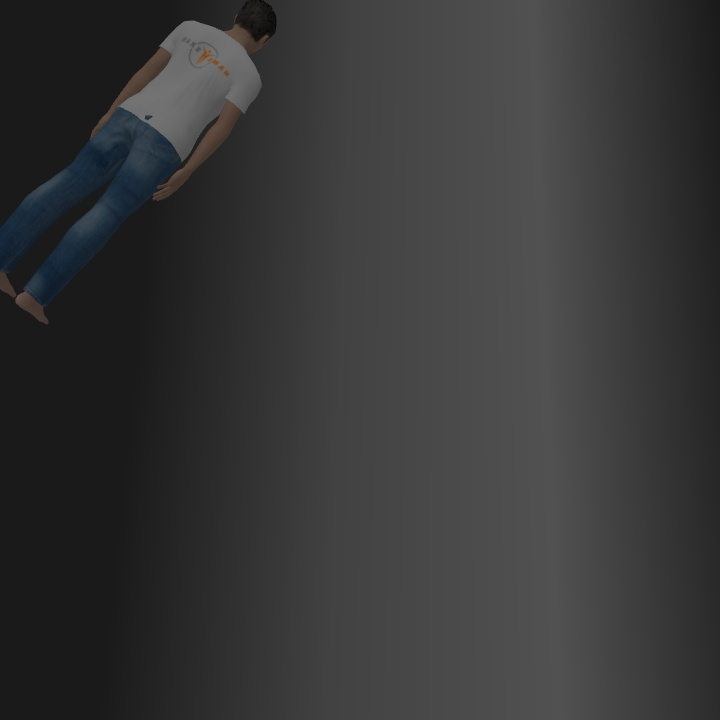victim: (3, 2, 277, 324)
